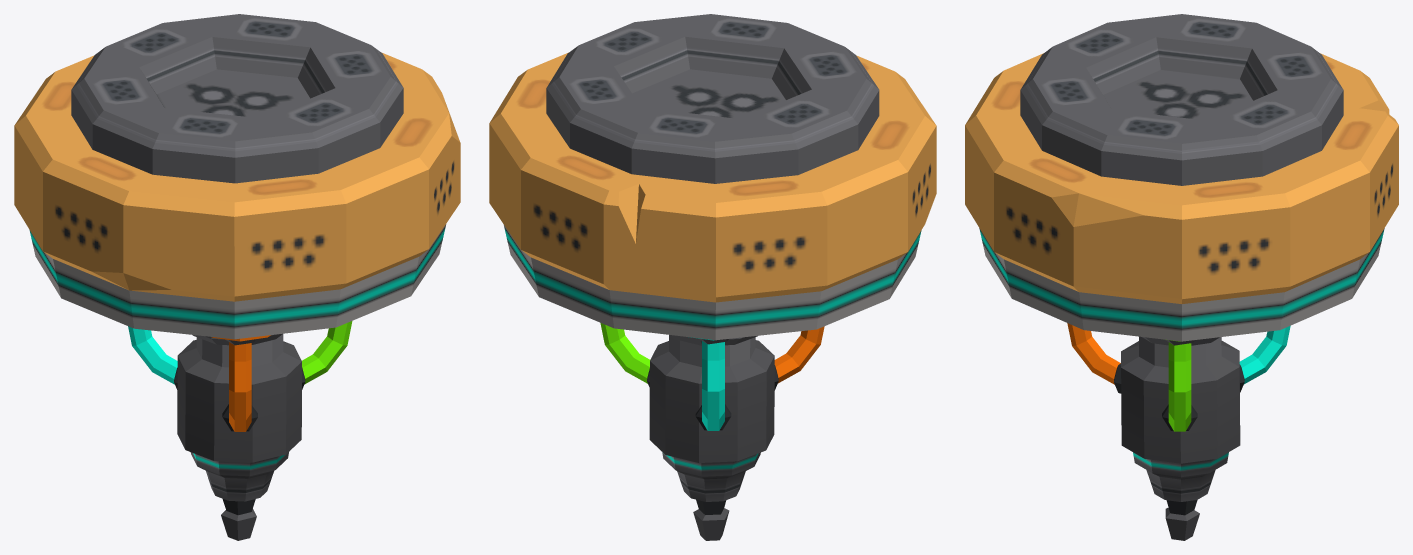
The model's file is SM_Prop_Drone_04_Stand_01.fbx.
The picture shows the model from 3 angles, left to right: view 1: azimuth 30°, elevation 25°; view 2: azimuth 150°, elevation 25°; view 3: azimuth 270°, elevation 25°; orthographic projection.
Parts seen in each view (by area): view 1: SM_Prop_Drone_04_Stand_01; view 2: SM_Prop_Drone_04_Stand_01; view 3: SM_Prop_Drone_04_Stand_01.
Part boxes in pixels (x1=…): SM_Prop_Drone_04_Stand_01: x1=14, y1=14, x2=460, y2=540; SM_Prop_Drone_04_Stand_01: x1=489, y1=14, x2=936, y2=540; SM_Prop_Drone_04_Stand_01: x1=965, y1=14, x2=1398, y2=540.
Size of the model in its own units: 74.36 by 83.66 by 72.07.
